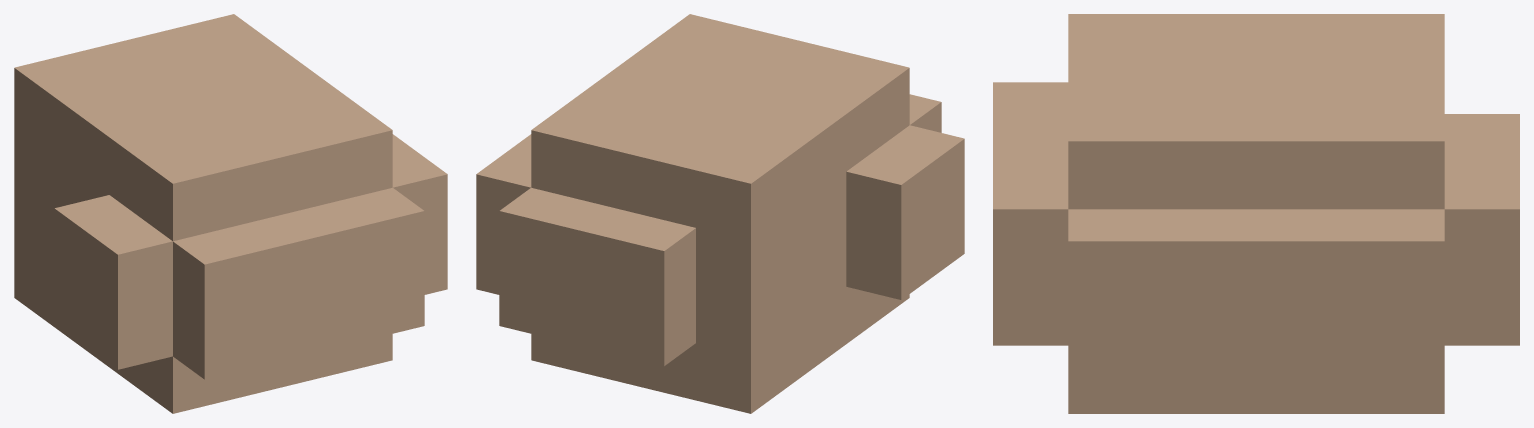
The model's file is character_human-4-arm_r.obj.
3 renders of one model, left to right at view 1: azimuth 30°, elevation 25°; view 2: azimuth 150°, elevation 25°; view 3: azimuth 270°, elevation 25°, orthographic. The views are drawn at different scales.
Visible parts, largest first — view 1: arm_r; view 2: arm_r; view 3: arm_r.
Boxes of the visible parts, x1,y1,x2,y2 form: arm_r: (14,14,447,413); arm_r: (476,14,964,413); arm_r: (993,14,1519,413).
Size of the model in its own units: 0.6 by 0.4 by 0.7.
1 material, 1 textured.
